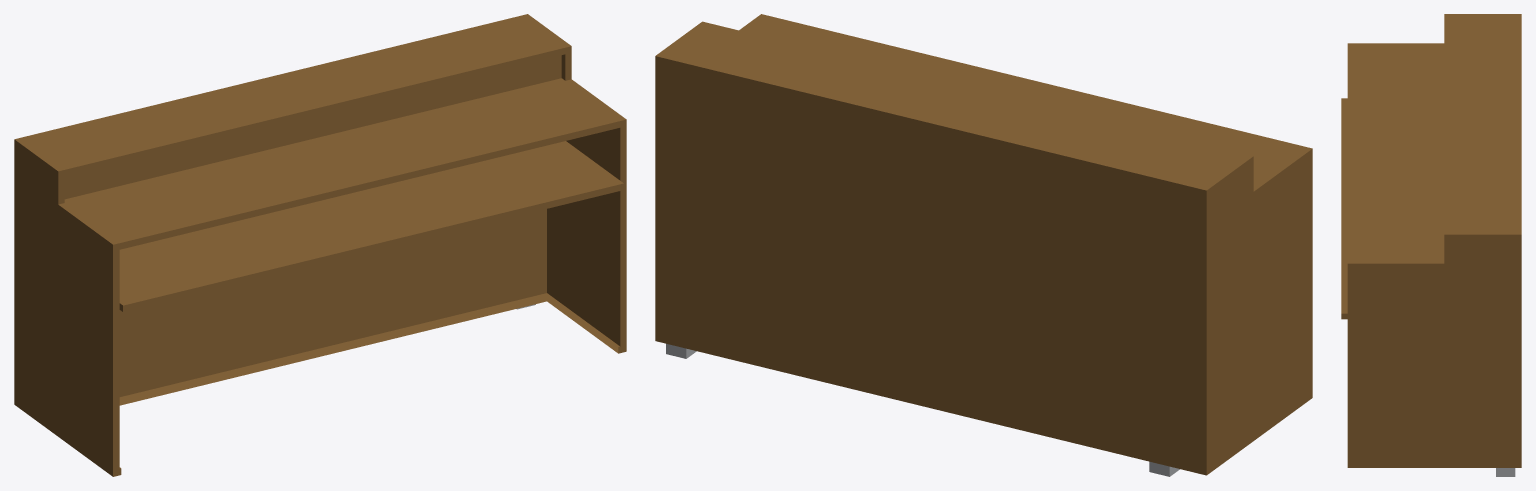
The model's file is desk_2.001_0_lev1_lev3.glb.
The picture shows the model from 3 angles, left to right: view 1: azimuth 30°, elevation 25°; view 2: azimuth 150°, elevation 25°; view 3: azimuth 270°, elevation 25°; orthographic projection. The views are drawn at different scales.
Parts seen in each view (by area): view 1: desk_2.001_0_lev1_lev3; view 2: desk_2.001_0_lev1_lev3; view 3: desk_2.001_0_lev1_lev3.
Part boxes in pixels (bbox=[...]): desk_2.001_0_lev1_lev3: bbox=[14, 14, 626, 476]; desk_2.001_0_lev1_lev3: bbox=[655, 14, 1312, 476]; desk_2.001_0_lev1_lev3: bbox=[1341, 14, 1521, 476].
Bounding box in the file's own units: 4.53 × 2.35 × 1.57.
1 material, 1 textured.
